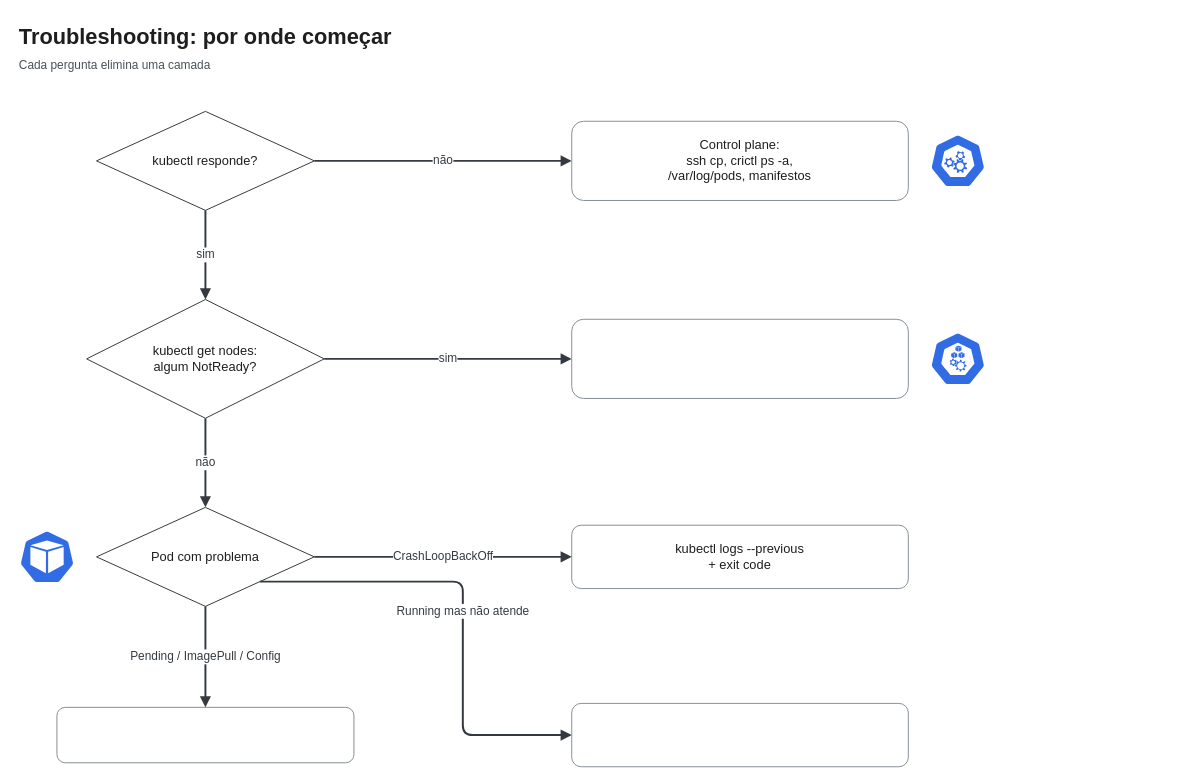
Image size: 1182x784. Some labels were removed from this diagram. Here are the shapes that lost their labels. From the top down, the centre of each, then its label:
(x=739, y=358): Nó: ssh, systemctl status kubelet, journalctl -u kubelet, containerd
(x=205, y=734): kubectl describe pod → Events
(x=739, y=734): Service, Endpoints, DNS, NetworkPolicy
